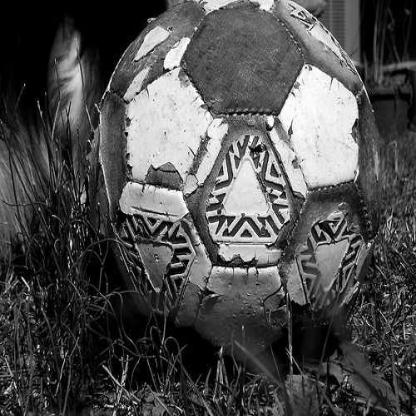ball: (89, 0, 384, 369)
